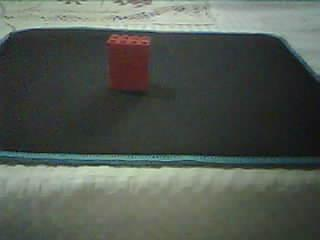lego: (105, 33, 152, 93)
